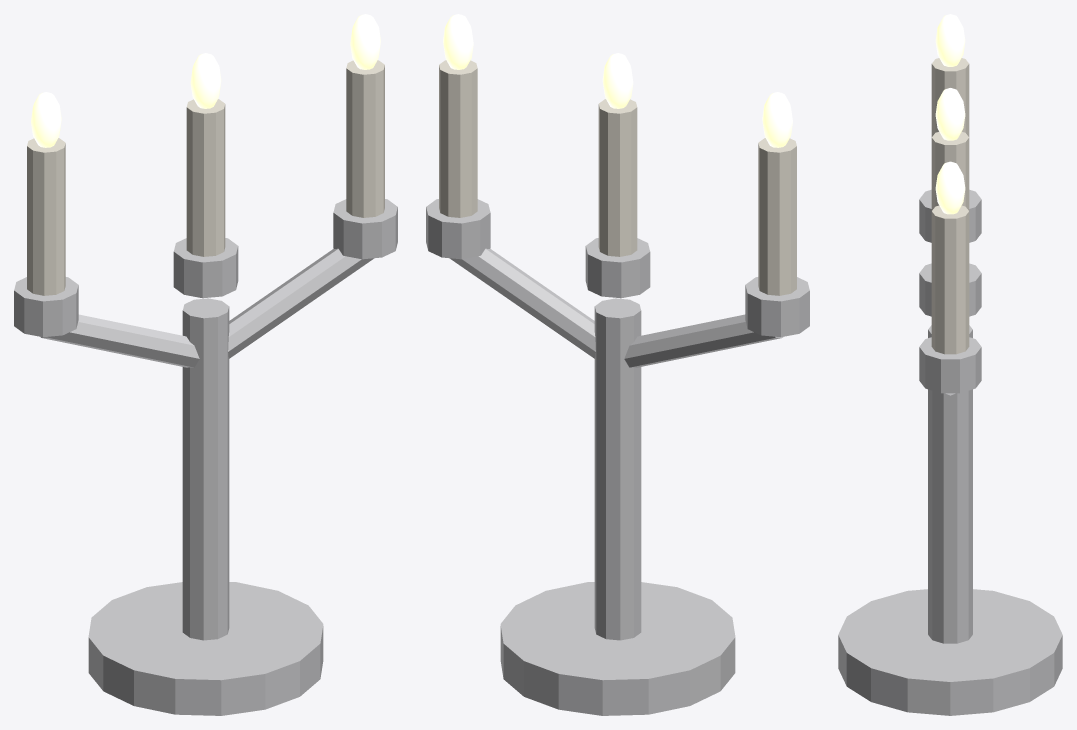
The model's file is Candelabra.glb.
3 views of the same model, side by side, from view 1: azimuth 30°, elevation 25°; view 2: azimuth 150°, elevation 25°; view 3: azimuth 270°, elevation 25° (orthographic). The views are drawn at different scales.
Parts seen in each view (by area): view 1: Candelabra; view 2: Candelabra; view 3: Candelabra.
Part boxes in pixels (<box>): Candelabra: <box>14,14,397,715</box>; Candelabra: <box>426,14,809,715</box>; Candelabra: <box>838,14,1062,715</box>.
Size of the model in its own units: 0.3276 by 0.514 by 0.18.
